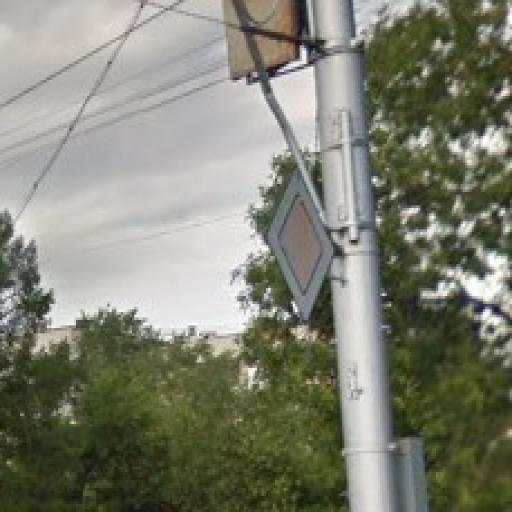traffic_sign: (265, 166, 336, 324)
